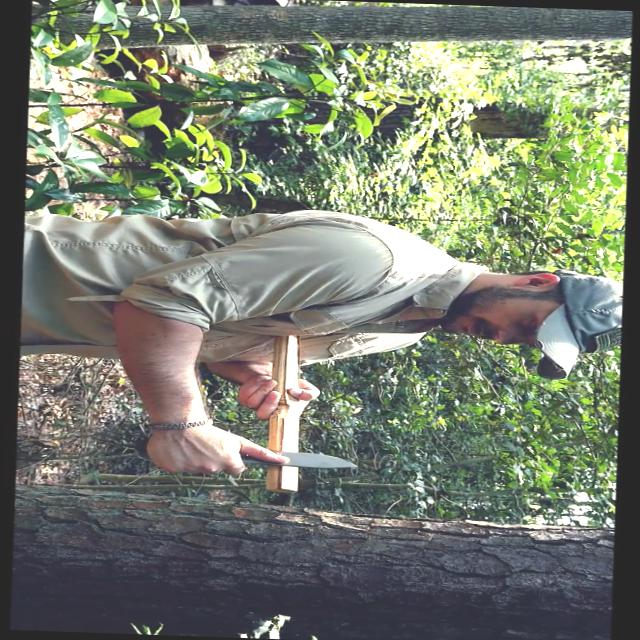knife: (175, 434, 362, 480)
